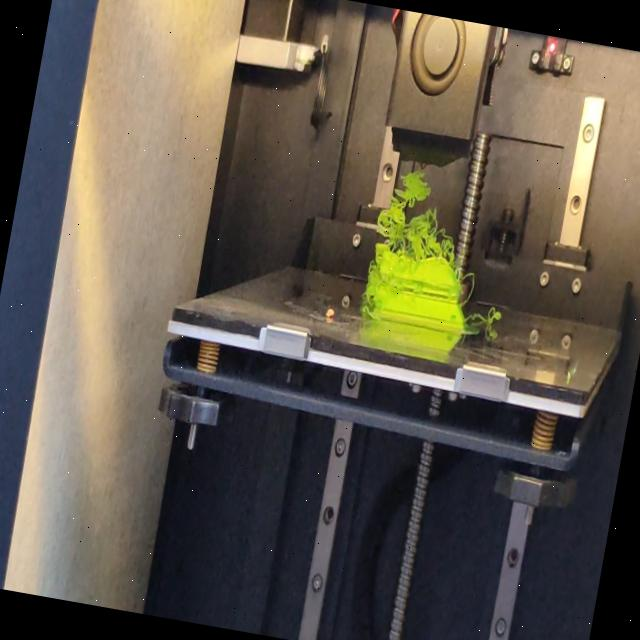spaghetti: (369, 166, 468, 264), (464, 302, 506, 331), (452, 266, 479, 309), (358, 298, 377, 318)
